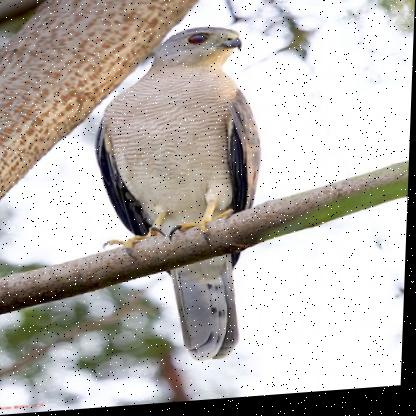Burung: (88, 26, 266, 371)
